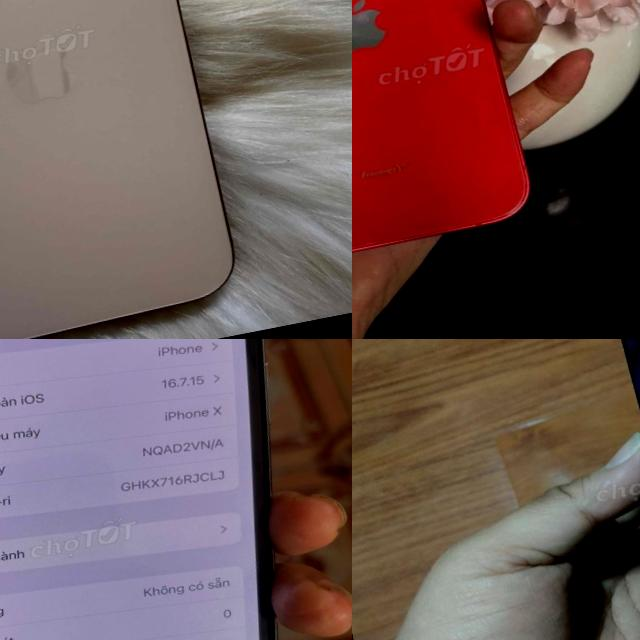gen_11: (352, 0, 546, 278)
gen_16: (0, 0, 232, 339)
gen_x_xs: (0, 339, 308, 640)
